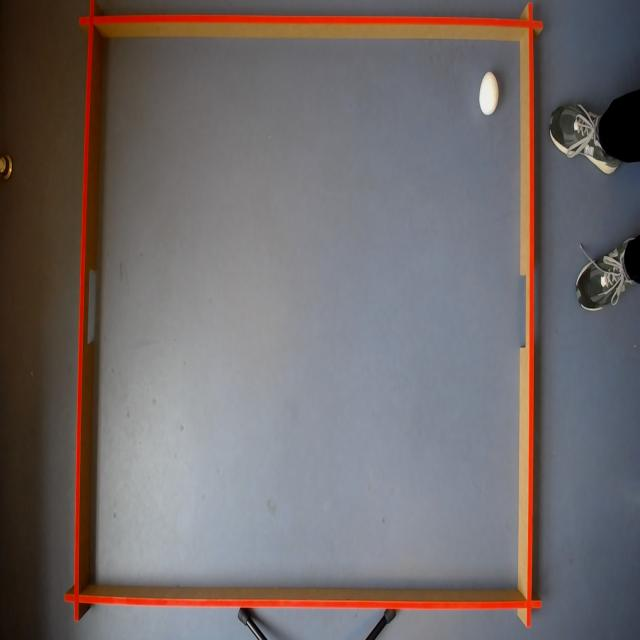egg: (478, 69, 500, 117)
